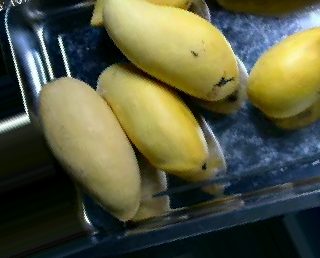Mango: (39, 76, 142, 220), (102, 1, 239, 101), (98, 63, 207, 174), (248, 26, 320, 119)
